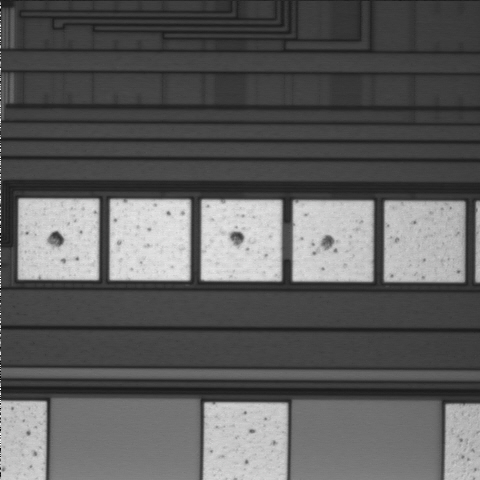pad: (18, 199, 99, 280), (201, 200, 282, 281), (110, 200, 190, 280), (293, 201, 373, 281), (385, 202, 463, 282)
